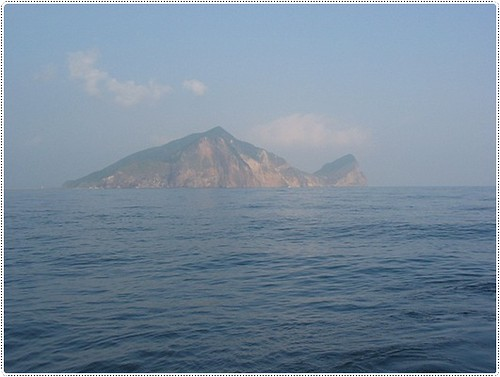turtleIsland: (66, 126, 367, 185)
